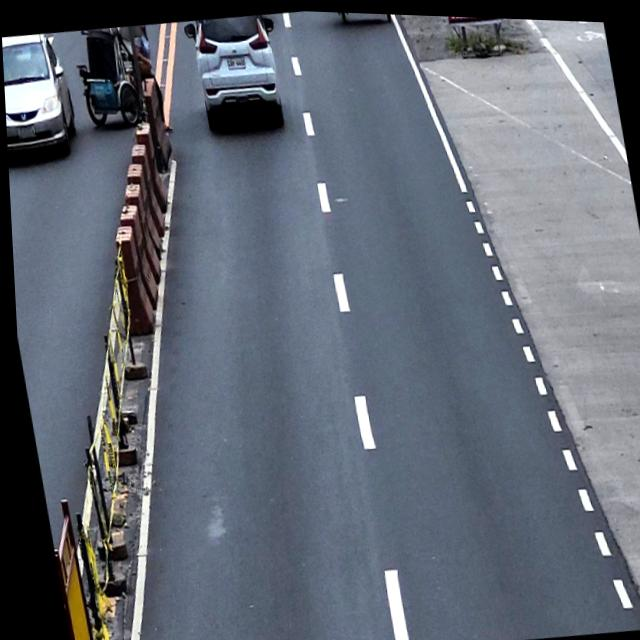Car: (182, 9, 290, 133), (1, 29, 80, 168)
License-Plate: (223, 51, 246, 69), (13, 122, 36, 140)
Tricycle: (69, 22, 150, 131)
